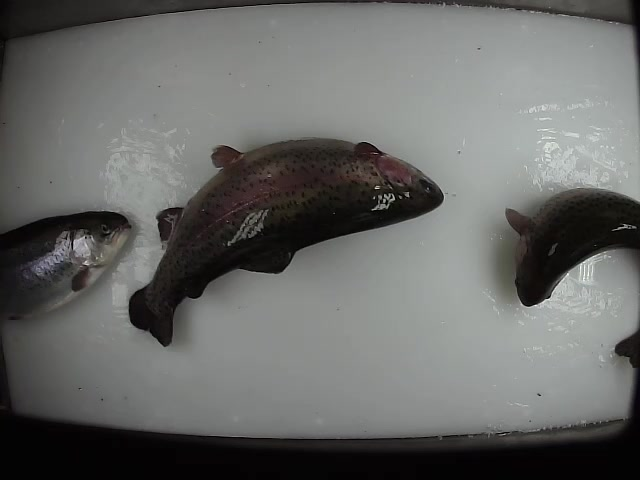fish: (127, 138, 446, 351)
